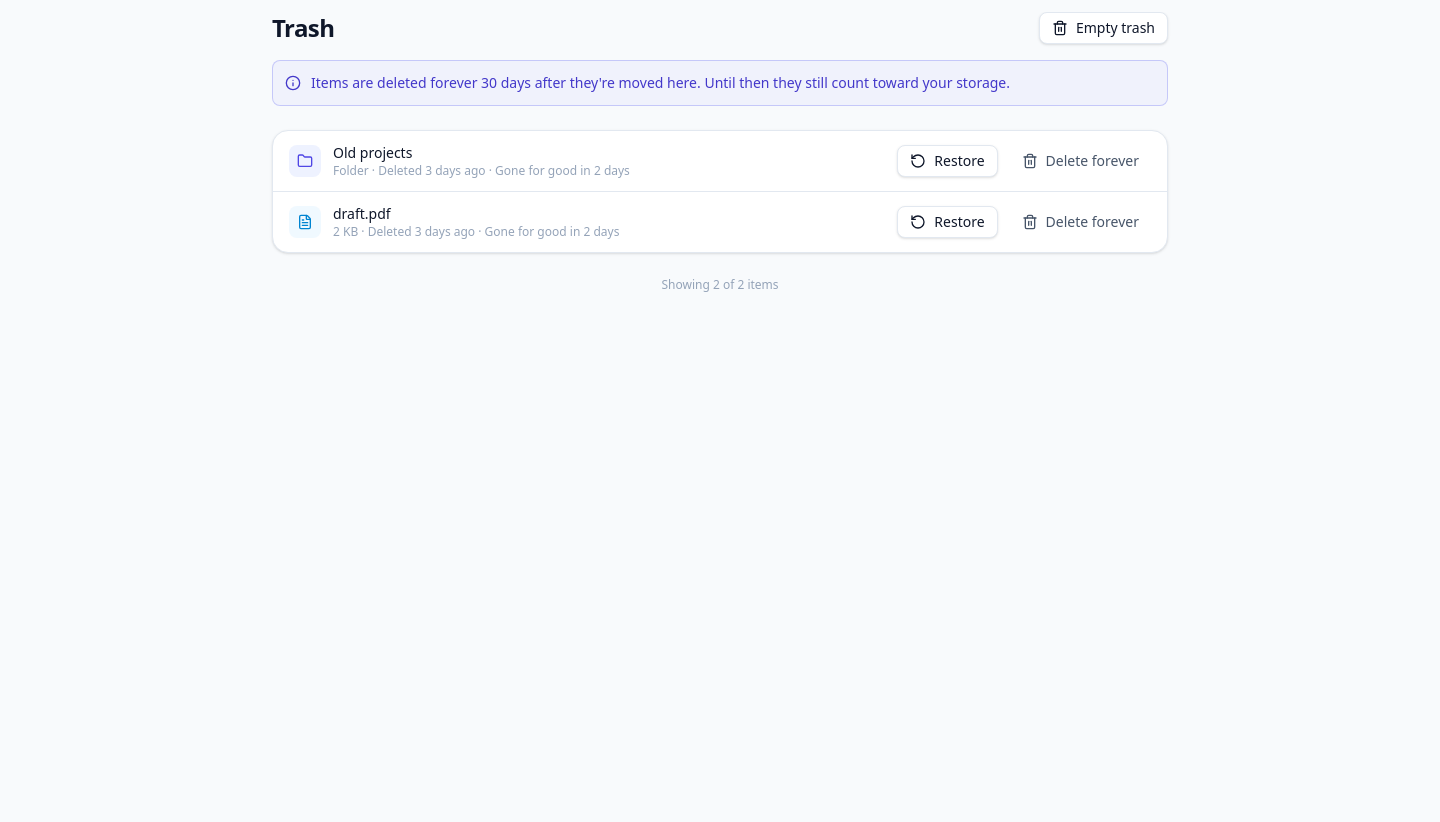
Test: Trash page › restores an item
This screenshot has width=1440, height=822.
Expected: the text "draft.pdf" is shown, [333,204,391,223]
Step 1. Click the button with aria-label "Restore draft.pdf" → (947, 222), box [897,206,998,238]
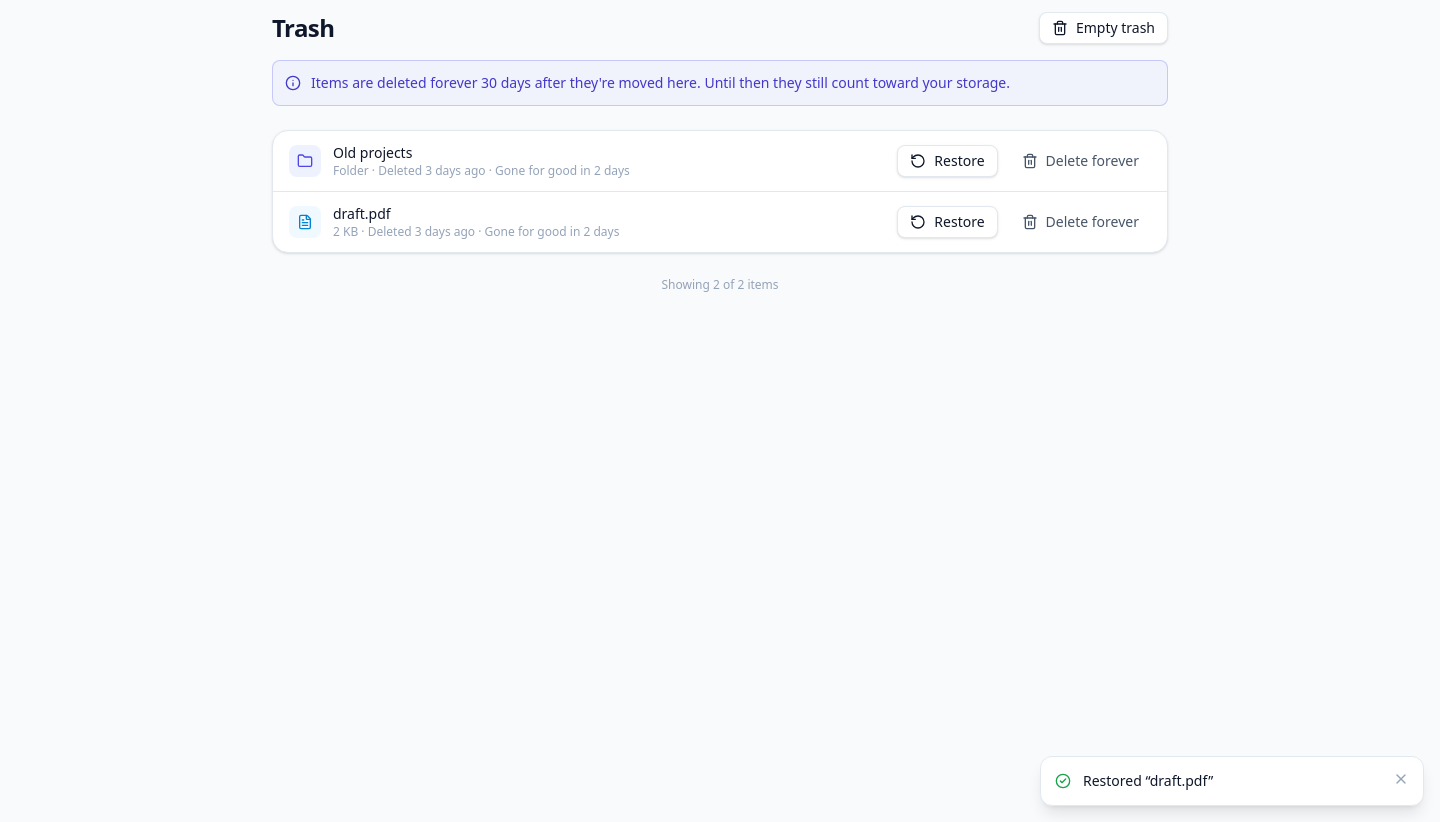
Expected: the text "Restored “draft.pdf”" is shown, [1083,771,1213,790]
